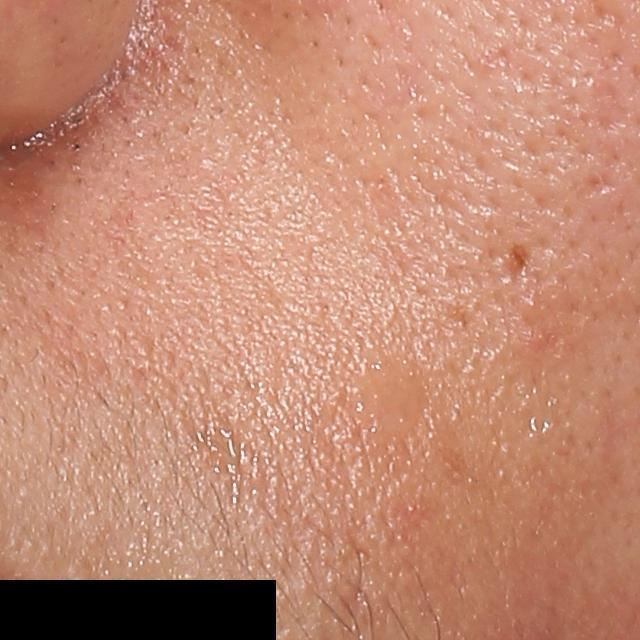atrophic_scar: (585, 170, 622, 197)
nevus: (510, 243, 530, 275)
